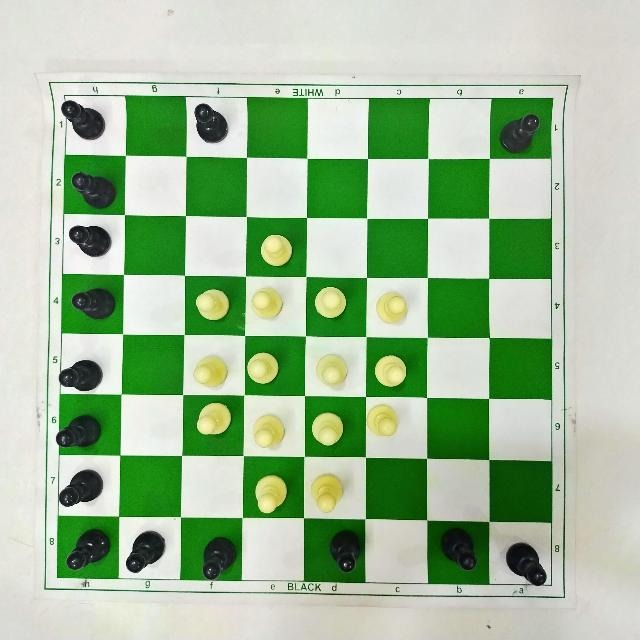black-pawn: (58, 96, 118, 150), (501, 537, 553, 590), (60, 530, 116, 576), (65, 167, 120, 211), (121, 529, 169, 577), (439, 525, 483, 577), (495, 112, 547, 155), (55, 469, 108, 509), (51, 415, 106, 453), (190, 98, 232, 147), (66, 283, 118, 322), (327, 530, 366, 581), (195, 537, 238, 583), (66, 221, 116, 258), (54, 360, 104, 396)
white-pawn: (309, 473, 342, 517), (255, 474, 289, 516), (195, 399, 231, 438), (374, 355, 414, 389), (192, 287, 230, 322), (247, 286, 283, 321), (251, 413, 286, 449), (365, 401, 398, 439), (244, 349, 279, 384), (192, 354, 228, 388), (314, 353, 350, 387), (258, 234, 294, 267), (312, 412, 345, 448), (313, 286, 346, 321), (375, 290, 407, 326)
